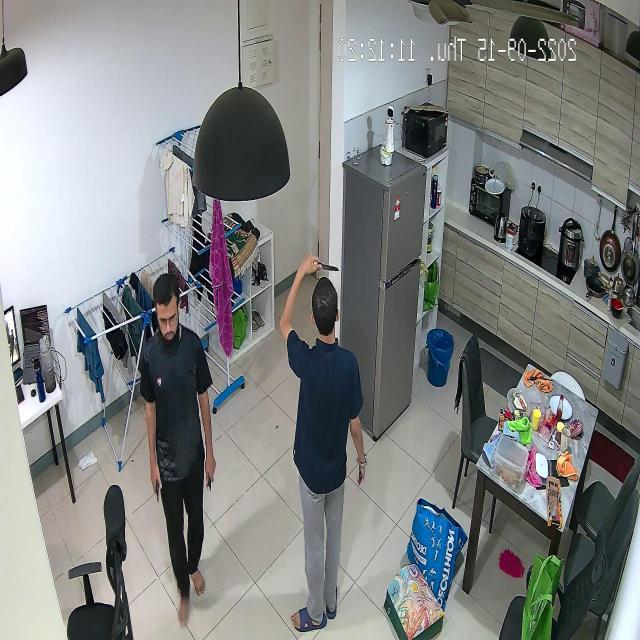Knife: (311, 253, 357, 277)
